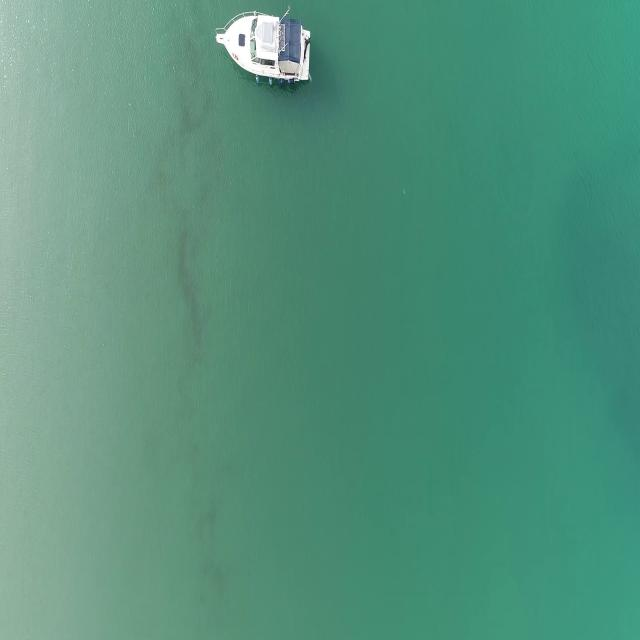boat: (214, 13, 312, 90)
